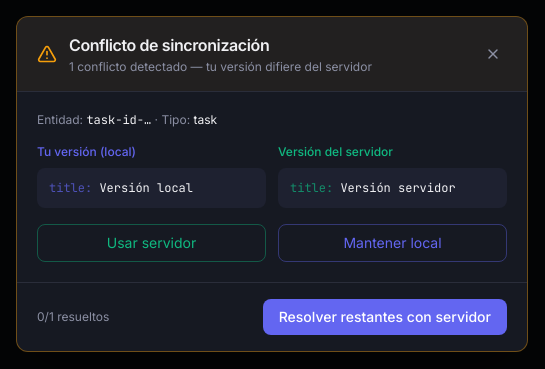
Scenario: ConflictModal — resolver con servidor › actualiza el contador tras resolver
Click the button "Usar servidor" at [152, 243], box [37, 224, 266, 262]
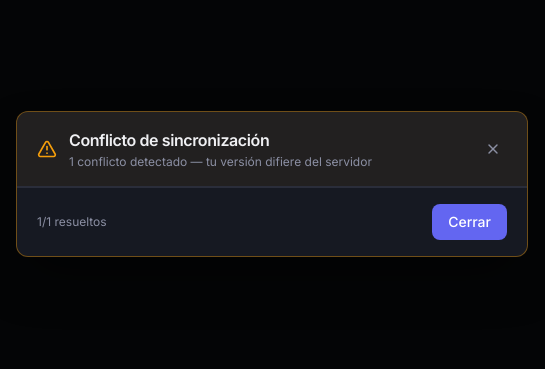
Expected: the text "1/1 resueltos" is shown, [37, 214, 107, 230]
